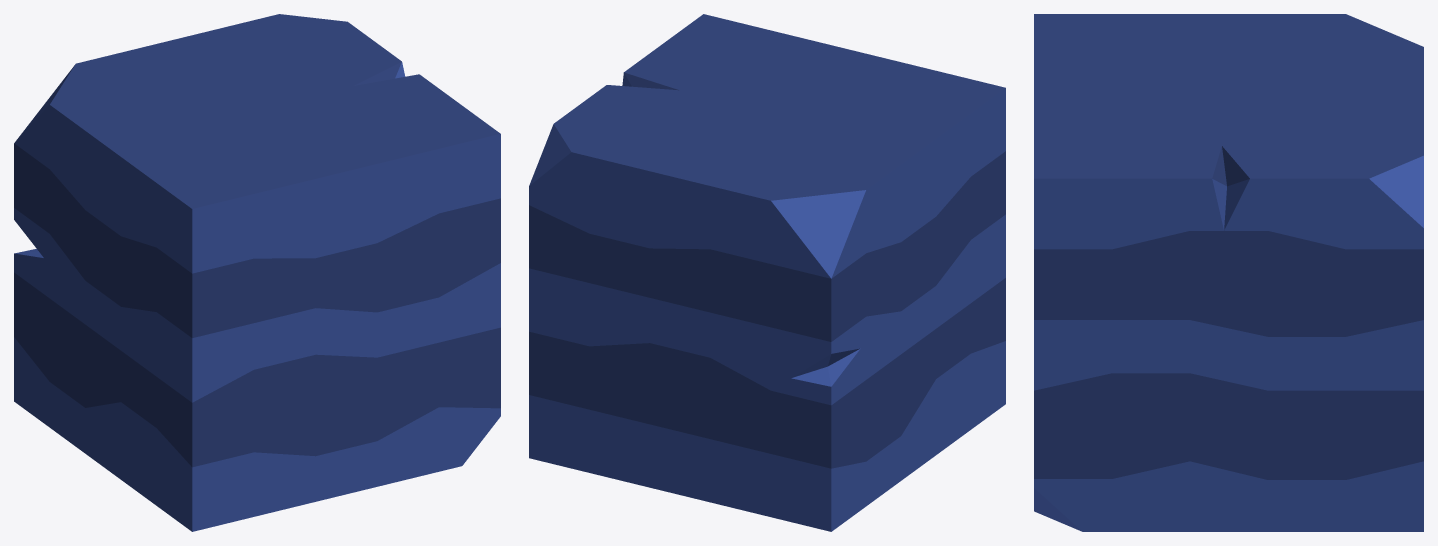
Rendered from Stone027.fbx.
The picture shows the model from 3 angles, left to right: view 1: azimuth 30°, elevation 25°; view 2: azimuth 150°, elevation 25°; view 3: azimuth 270°, elevation 25°; orthographic projection. The views are drawn at different scales.
Parts seen in each view (by area): view 1: Stone027; view 2: Stone027; view 3: Stone027.
Part boxes in pixels (left/top/right/bottom): Stone027: left=14, top=14, right=500, bottom=531; Stone027: left=529, top=14, right=1005, bottom=531; Stone027: left=1034, top=14, right=1423, bottom=531.
Bounding box in the file's own units: 156 × 156 × 156.
